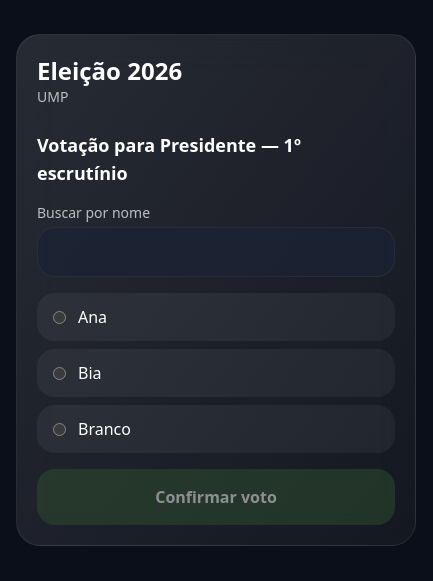
Test: VotePage › erro do servidor ao votar aparece na tela
This screenshot has width=433, height=581.
Click the radio button labelled "Branco". click: coordinates (60, 429)
box: [53, 422, 66, 436]
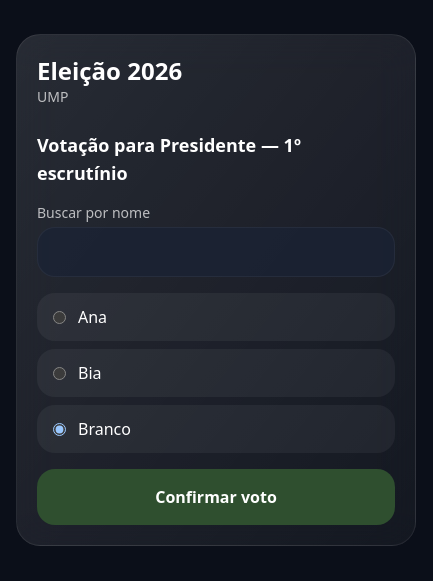
Click the button "Confirmar voto". click: coordinates (216, 497)
box: [37, 469, 395, 525]
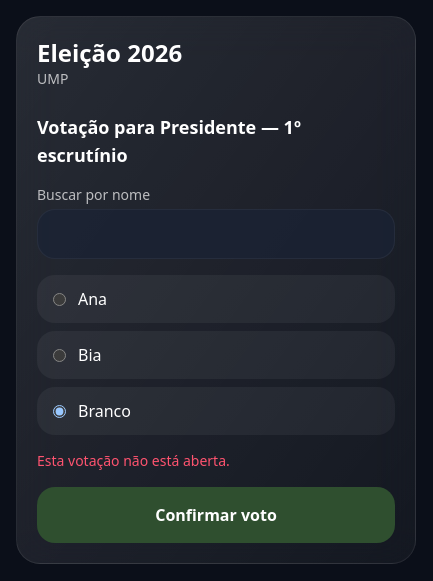
Expected: the message reads "Esta votação não está aberta.", [37, 451, 230, 470]
